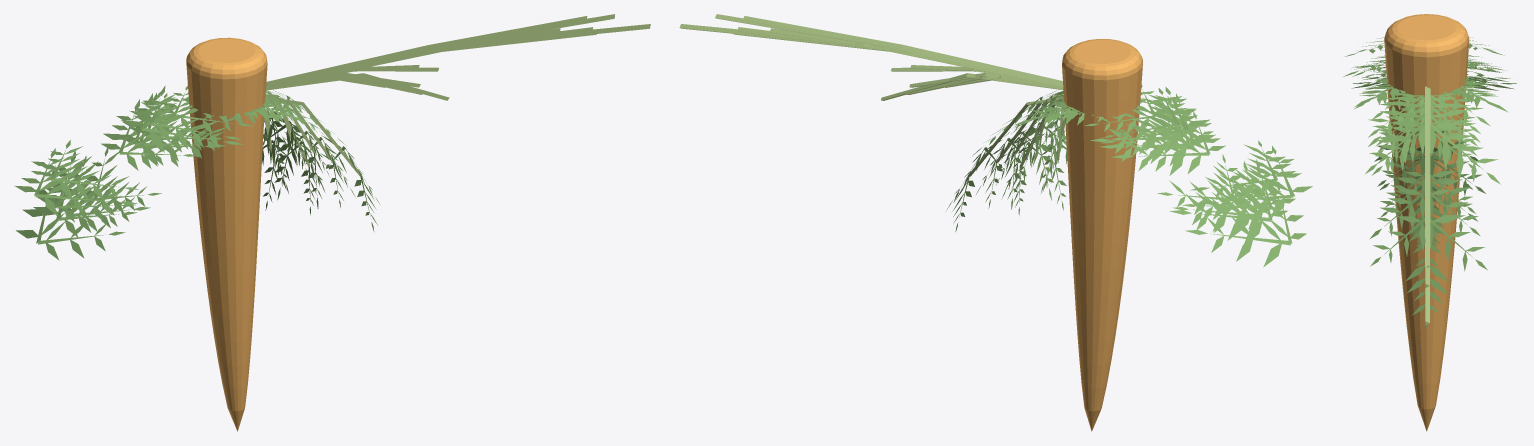
File: carrot_harvest_v11.articulated.glb
The picture shows the model from 3 angles, left to right: view 1: azimuth 30°, elevation 25°; view 2: azimuth 150°, elevation 25°; view 3: azimuth 270°, elevation 25°; orthographic projection. The views are drawn at different scales.
Parts seen in each view (by area): view 1: root, leaf02_link2, leaf01_link2, leaf03_link2, leaf05_link2, leaf06_link2, leaf03_link0, leaf00_link2, leaf04_link2, leaf01_link0, leaf03_link1; view 2: root, leaf02_link2, leaf03_link2, leaf01_link2, leaf05_link2, leaf06_link2, leaf00_link2, leaf05_link0, leaf04_link2, leaf03_link0, leaf01_link0, leaf04_link0; view 3: root, leaf03_link2, leaf02_link2, leaf06_link2, leaf01_link2, leaf00_link2, leaf05_link2, leaf05_link0, leaf04_link2, leaf03_link0.
Part boxes in pixels (box(x1,y1,x2,y2)): root: box(186, 37, 267, 431); leaf02_link2: box(37, 85, 329, 222); leaf01_link2: box(14, 92, 317, 216); leaf03_link2: box(16, 90, 379, 260); leaf05_link2: box(37, 93, 315, 200); leaf06_link2: box(33, 85, 355, 237); leaf03_link0: box(266, 24, 650, 88); leaf00_link2: box(60, 93, 324, 232); leaf04_link2: box(83, 102, 293, 211); leaf01_link0: box(266, 14, 614, 82); leaf03_link1: box(266, 73, 449, 100); root: box(1062, 39, 1142, 431); leaf02_link2: box(996, 85, 1285, 229); leaf03_link2: box(946, 91, 1306, 267); leaf01_link2: box(1011, 86, 1312, 217); leaf05_link2: box(1018, 88, 1295, 199); leaf06_link2: box(976, 91, 1287, 245); leaf00_link2: box(1001, 85, 1267, 231); leaf05_link0: box(742, 16, 1063, 86); leaf04_link2: box(1041, 101, 1245, 219); leaf03_link0: box(679, 24, 1062, 87); leaf01_link0: box(715, 14, 1062, 86); leaf04_link0: box(769, 28, 1060, 86); root: box(1384, 14, 1469, 431); leaf03_link2: box(1351, 62, 1516, 328); leaf02_link2: box(1360, 60, 1506, 246); leaf06_link2: box(1358, 63, 1510, 266); leaf01_link2: box(1343, 45, 1504, 210); leaf00_link2: box(1359, 67, 1499, 246); leaf05_link2: box(1351, 37, 1496, 162); leaf05_link0: box(1425, 86, 1430, 267); leaf04_link2: box(1371, 71, 1487, 204); leaf03_link0: box(1425, 118, 1430, 325).
Size of the model in its own units: 0.2899 by 0.1726 by 0.0696.
Materials: 1 (1 with a texture image).
